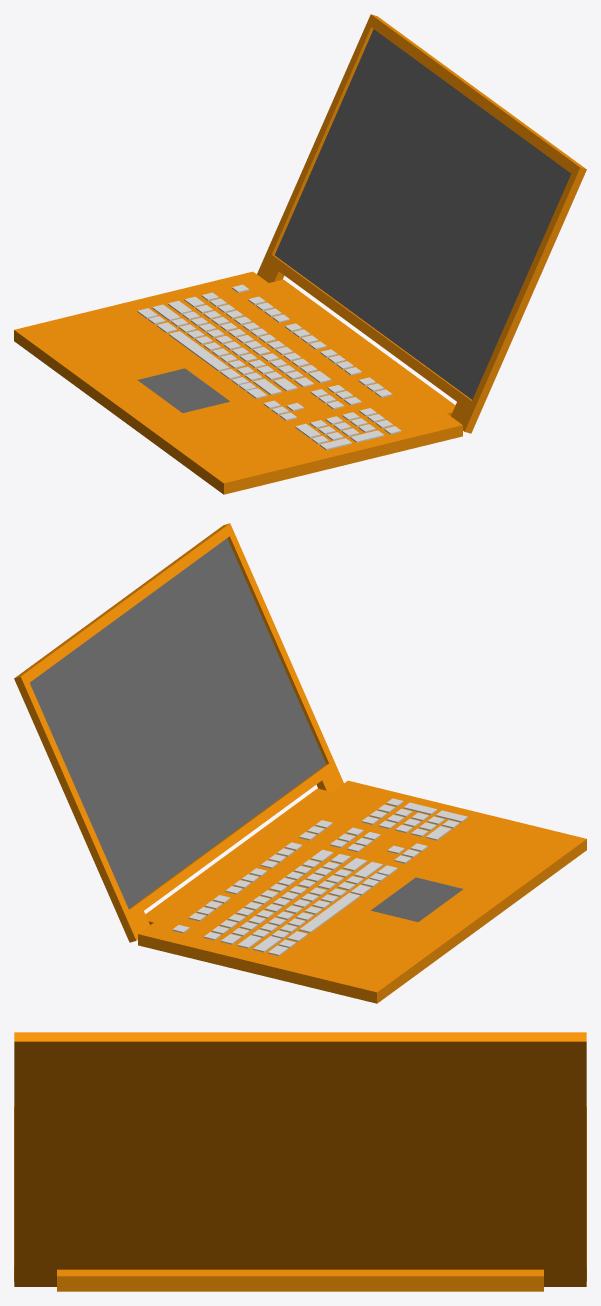
Rendered from SM_Laptop_001.fbx.
3 views of the same model, one above another, from view 1: azimuth 30°, elevation 25°; view 2: azimuth 150°, elevation 25°; view 3: azimuth 270°, elevation 25° (orthographic). The views are drawn at different scales.
Parts seen in each view (by area): view 1: Laptop; view 2: Laptop; view 3: Laptop.
Part boxes in pixels (left/top/right/bottom): Laptop: left=14, top=14, right=586, bottom=494; Laptop: left=14, top=523, right=586, bottom=1003; Laptop: left=14, top=1032, right=586, bottom=1291.
Bounding box in the file's own units: 41.15 × 25.98 × 41.16.
